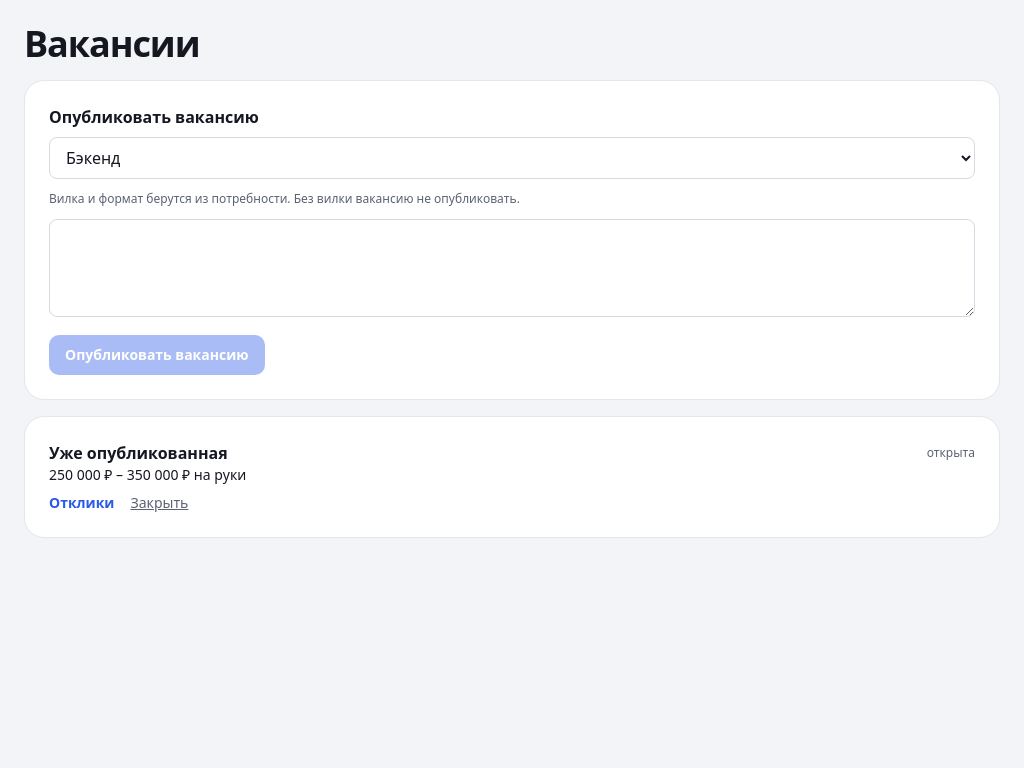
Test: employer VacanciesPage › reports a failed close instead of ignoring it
Click the button "Закрыть" at point(159, 503), box [130,493,188,513]
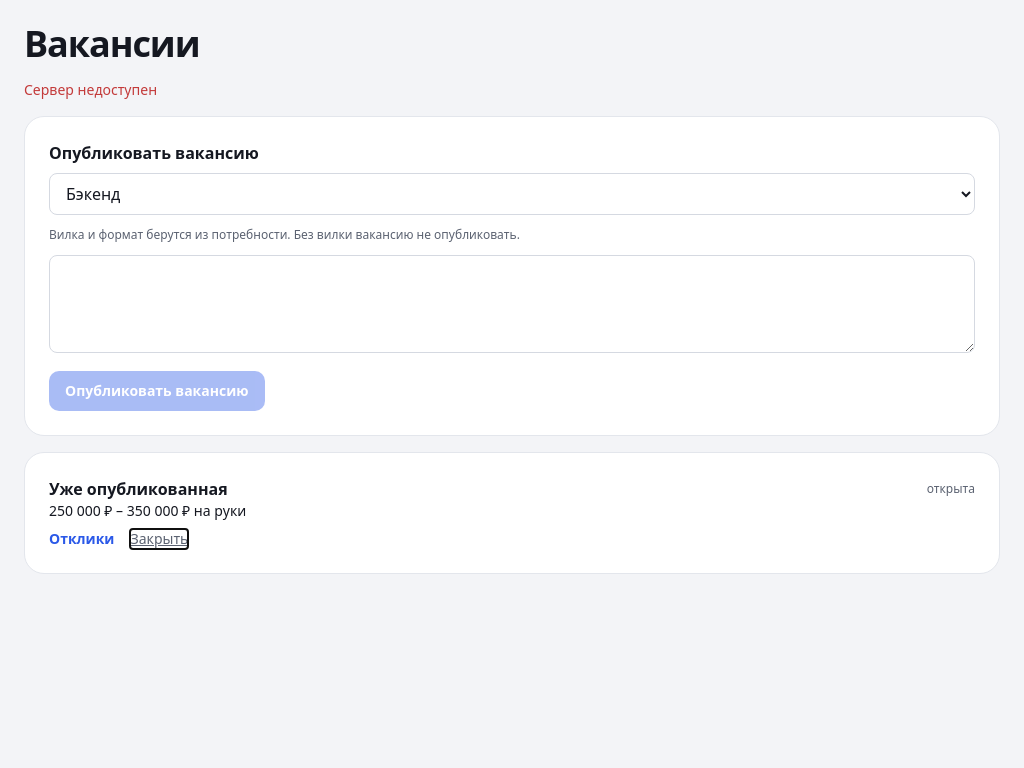
Expected: the message reads "Сервер недоступен", [24,80,157,99]
